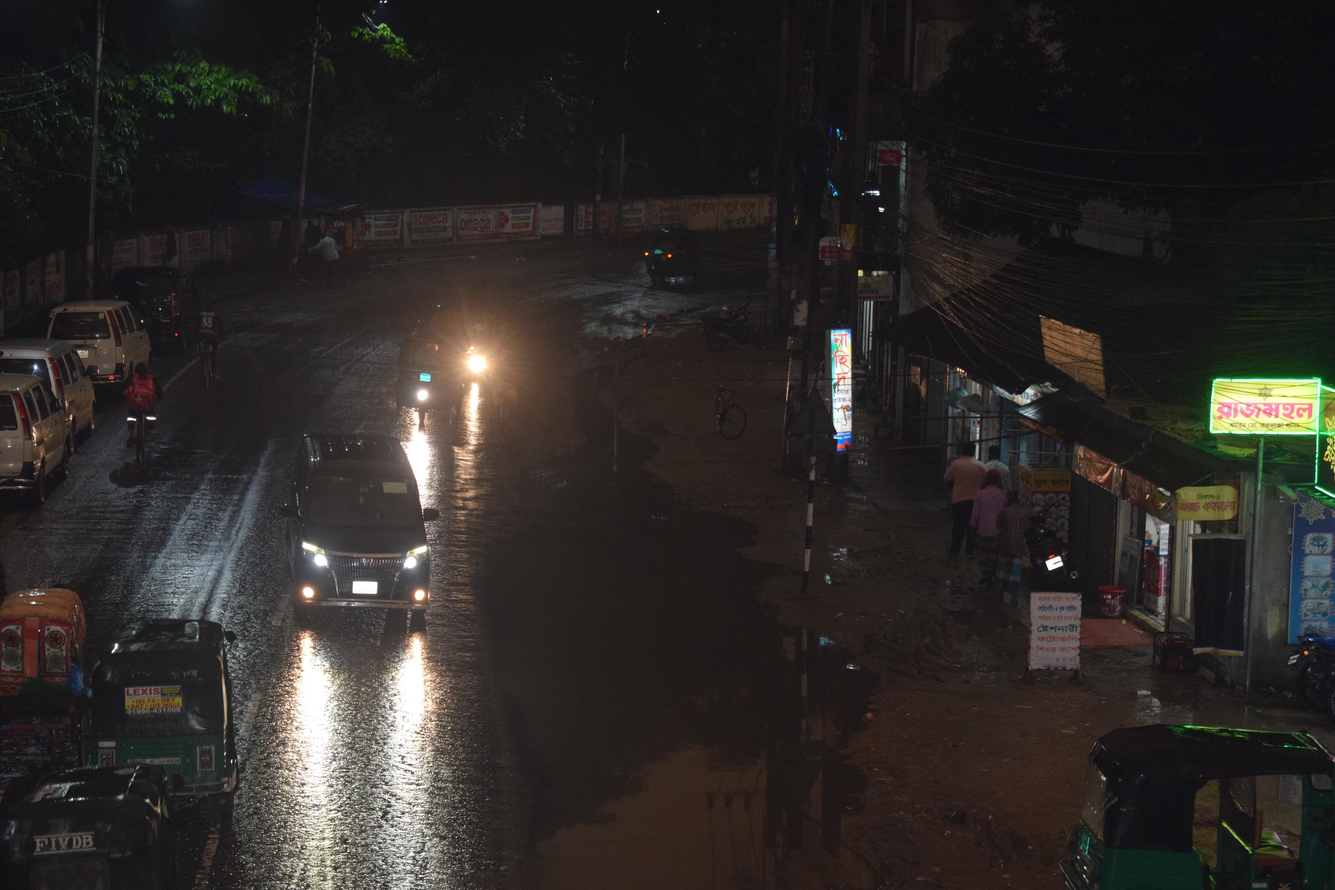Car: (245, 409, 471, 656), (28, 291, 163, 413), (0, 363, 86, 514)
